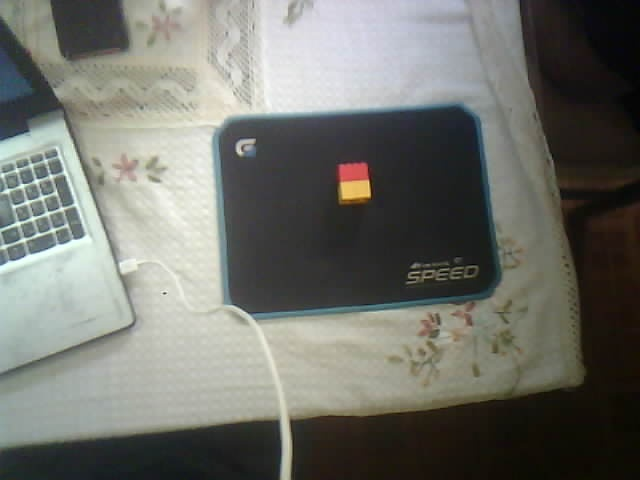lego: (334, 161, 372, 207)
